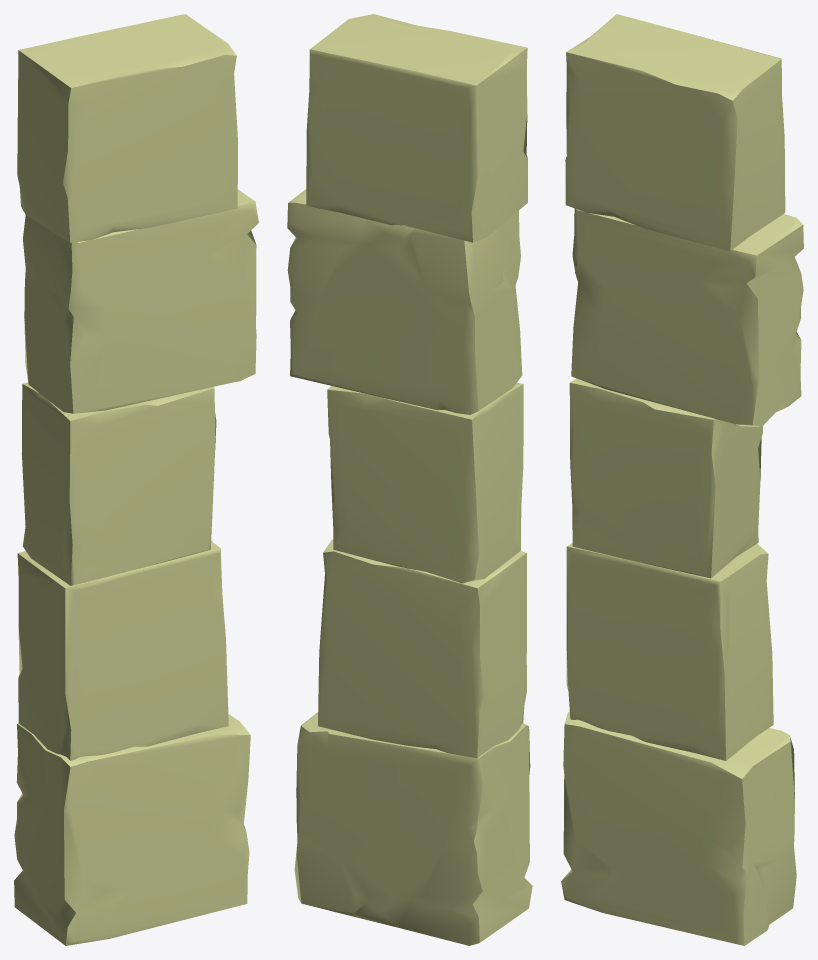
Rendered from stone_element_20_lintel_08.fbx.
3 renders of one model, left to right at view 1: azimuth 30°, elevation 25°; view 2: azimuth 150°, elevation 25°; view 3: azimuth 330°, elevation 25°, orthographic.
Parts seen in each view (by area): view 1: stone_element_20_lintel_08_LOD0; view 2: stone_element_20_lintel_08_LOD0; view 3: stone_element_20_lintel_08_LOD0.
Part boxes in pixels (x1=…): stone_element_20_lintel_08_LOD0: x1=14, y1=14, x2=258, y2=945; stone_element_20_lintel_08_LOD0: x1=287, y1=14, x2=532, y2=945; stone_element_20_lintel_08_LOD0: x1=561, y1=14, x2=803, y2=945.
Size of what is drawn, in the model's own units: 66.48 by 282 by 33.07.
